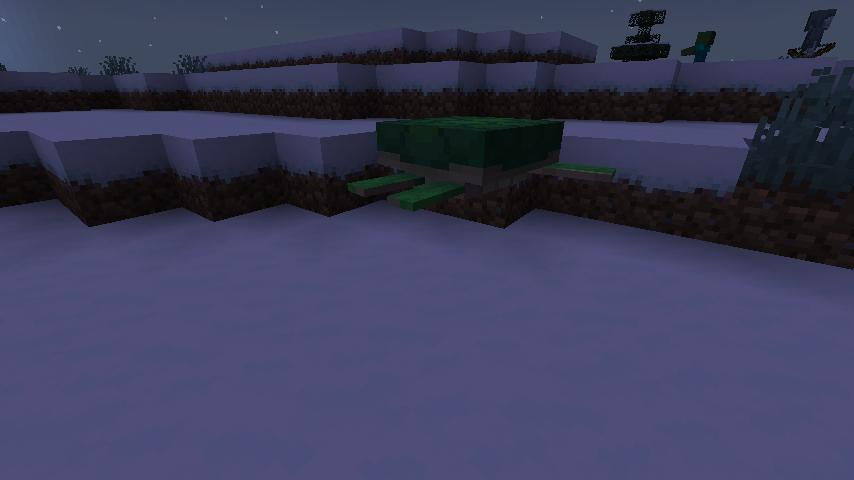skeleton: (788, 6, 837, 65)
turtle: (346, 109, 621, 231)
zombie: (679, 26, 716, 64)
